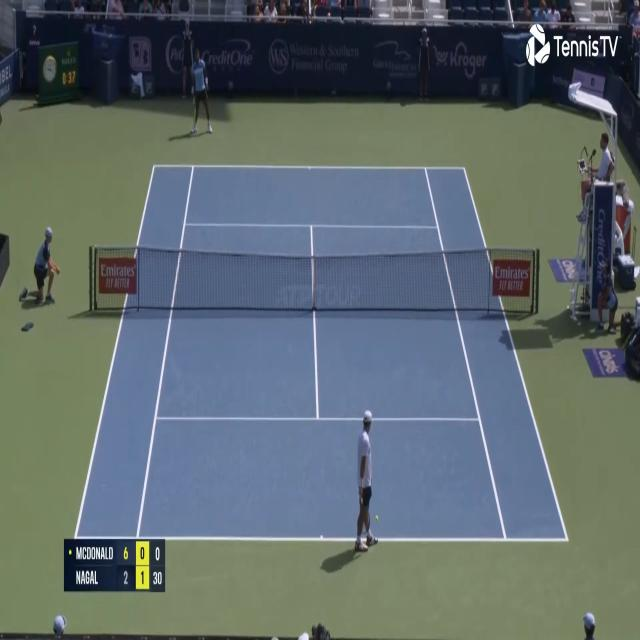tennis-player: (350, 406, 380, 558), (187, 44, 214, 137)
